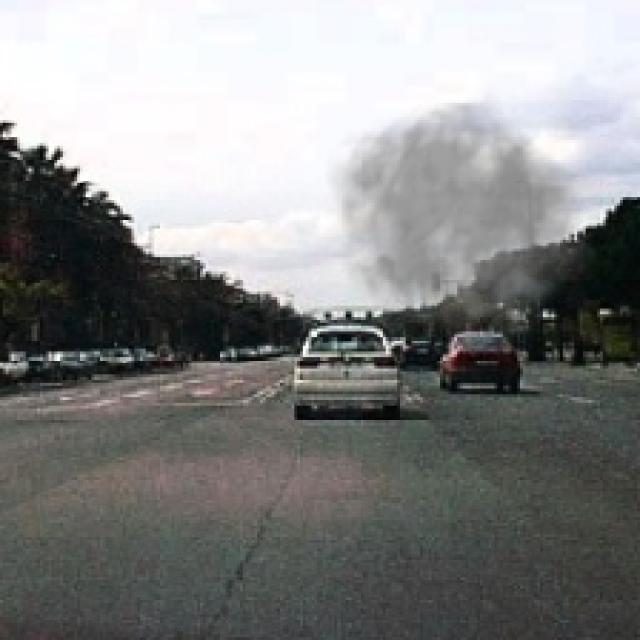Smoke: (326, 100, 603, 352)
